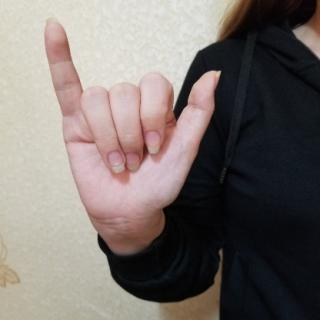YA: (41, 14, 222, 238)
